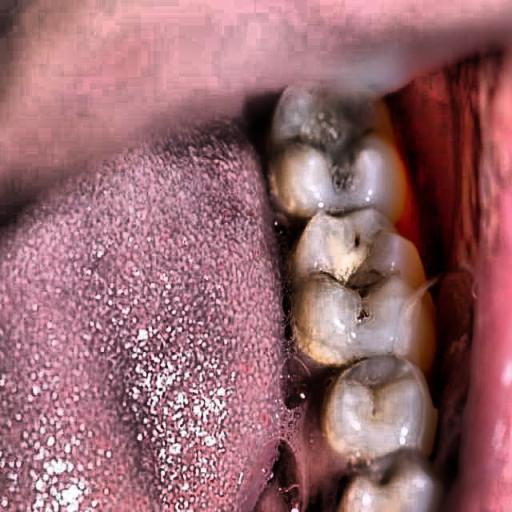Caries: (315, 202, 401, 330), (290, 104, 395, 198)
